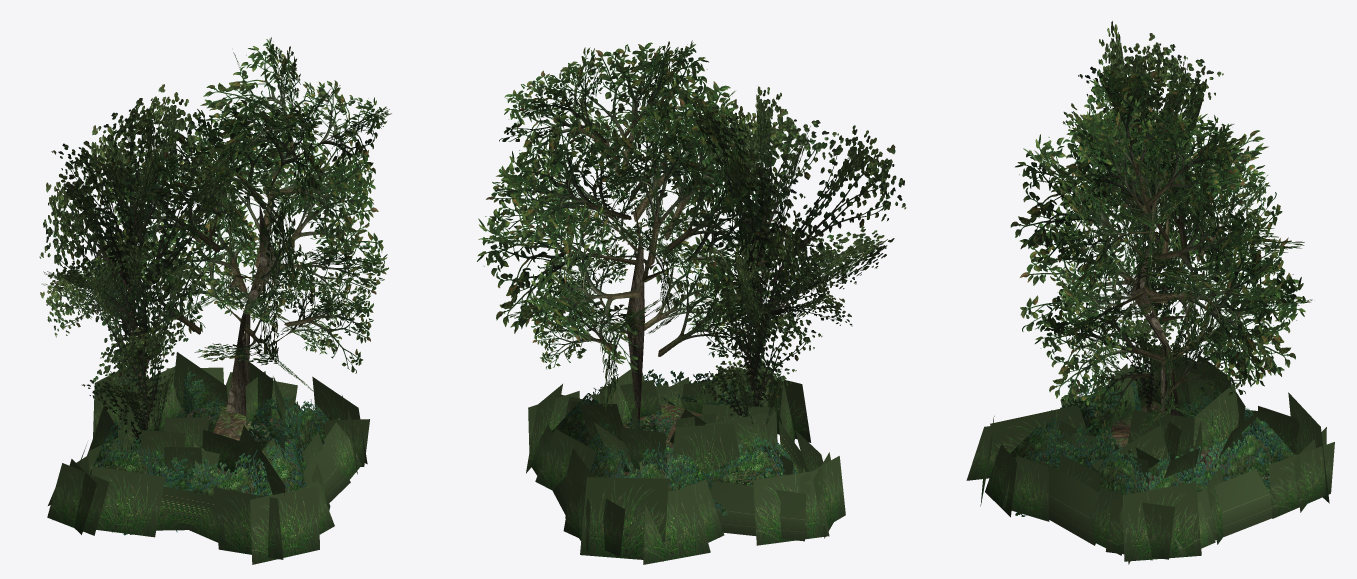
File: tree02.FBX
3 views of the same model, side by side, from view 1: azimuth 30°, elevation 25°; view 2: azimuth 150°, elevation 25°; view 3: azimuth 270°, elevation 25° (orthographic). The views are drawn at different scales.
Visible parts, largest first — view 1: 04_tree_a06; view 2: 04_tree_a06; view 3: 04_tree_a06.
Part boxes in pixels (x1=…): 04_tree_a06: x1=39, y1=37, x2=391, y2=564; 04_tree_a06: x1=477, y1=40, x2=906, y2=564; 04_tree_a06: x1=966, y1=21, x2=1334, y2=564.
Bounding box in the file's own units: 2299 × 1764 × 2347.
